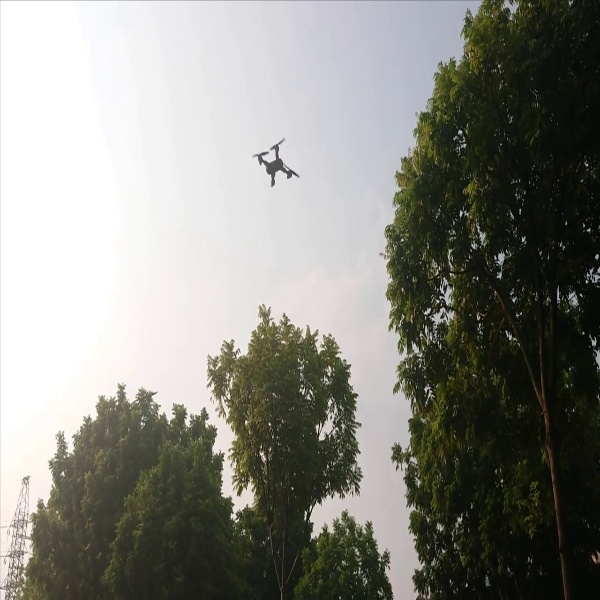drone: (248, 134, 308, 191)
